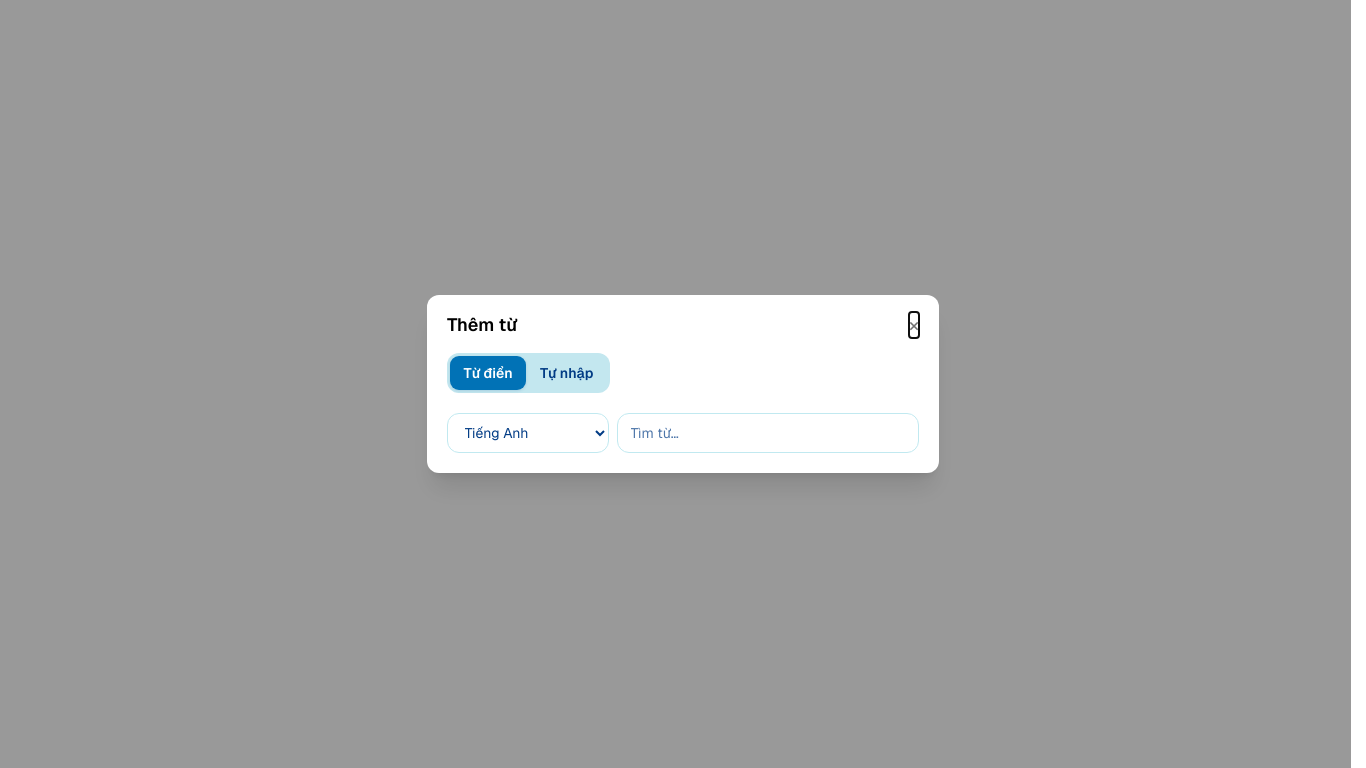
Test: AddWordDialog › reports an assistant failure instead of silently filling nothing
The width and height of the screenshot is (1366, 768).
Step 1. Click the tab "Tự nhập" → [567, 373], box [526,356,607,390]
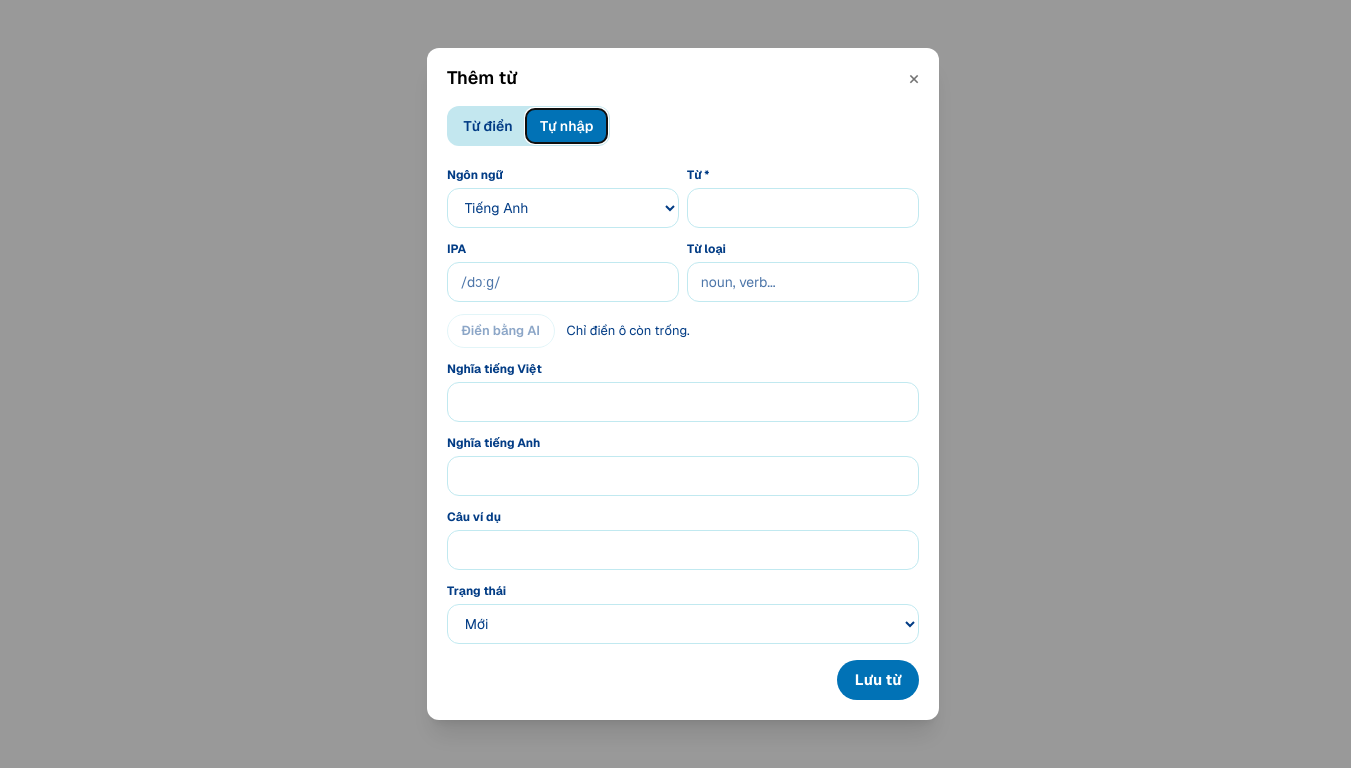
Step 2. Type "dog" into the field labelled "Từ *" → [803, 208], box [687,188,919,228]
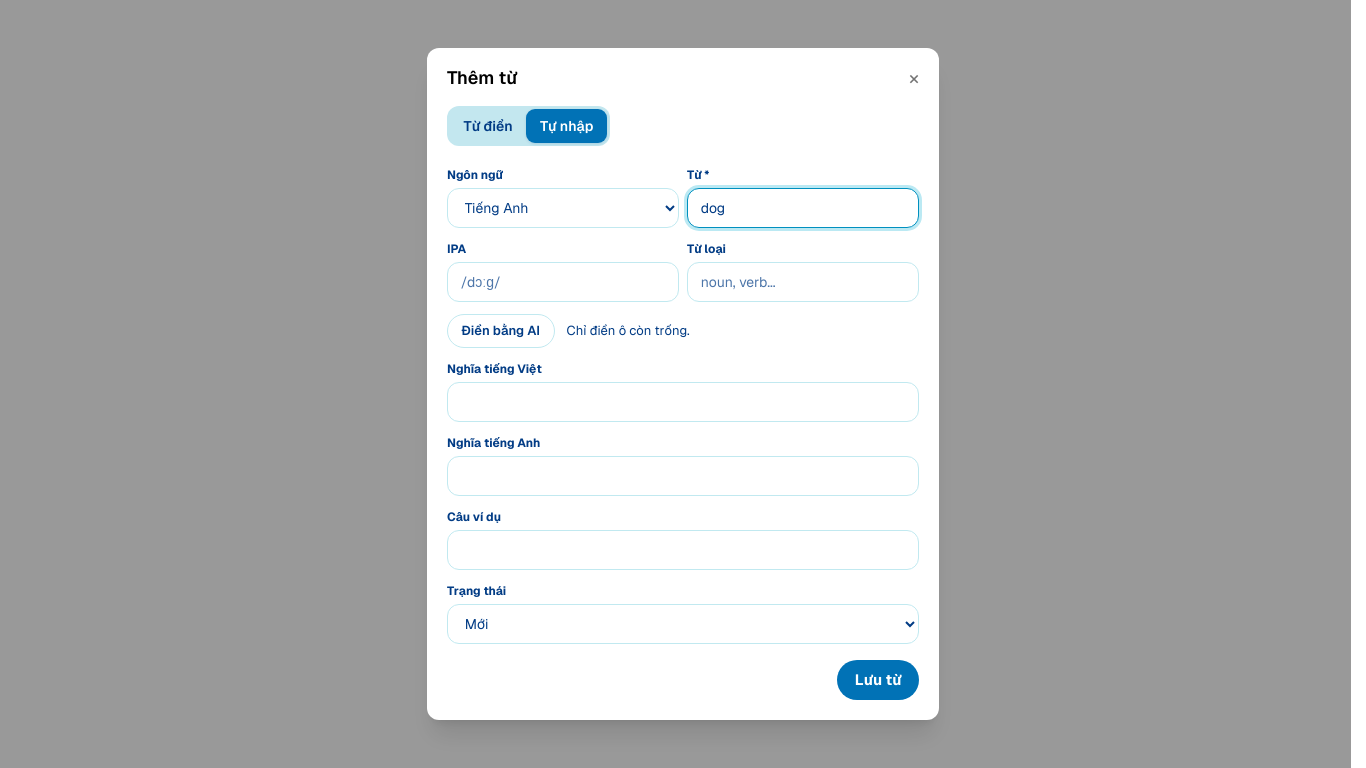
Step 3. Click the button "Điền bằng AI" → [501, 331], box [447,314,554,348]
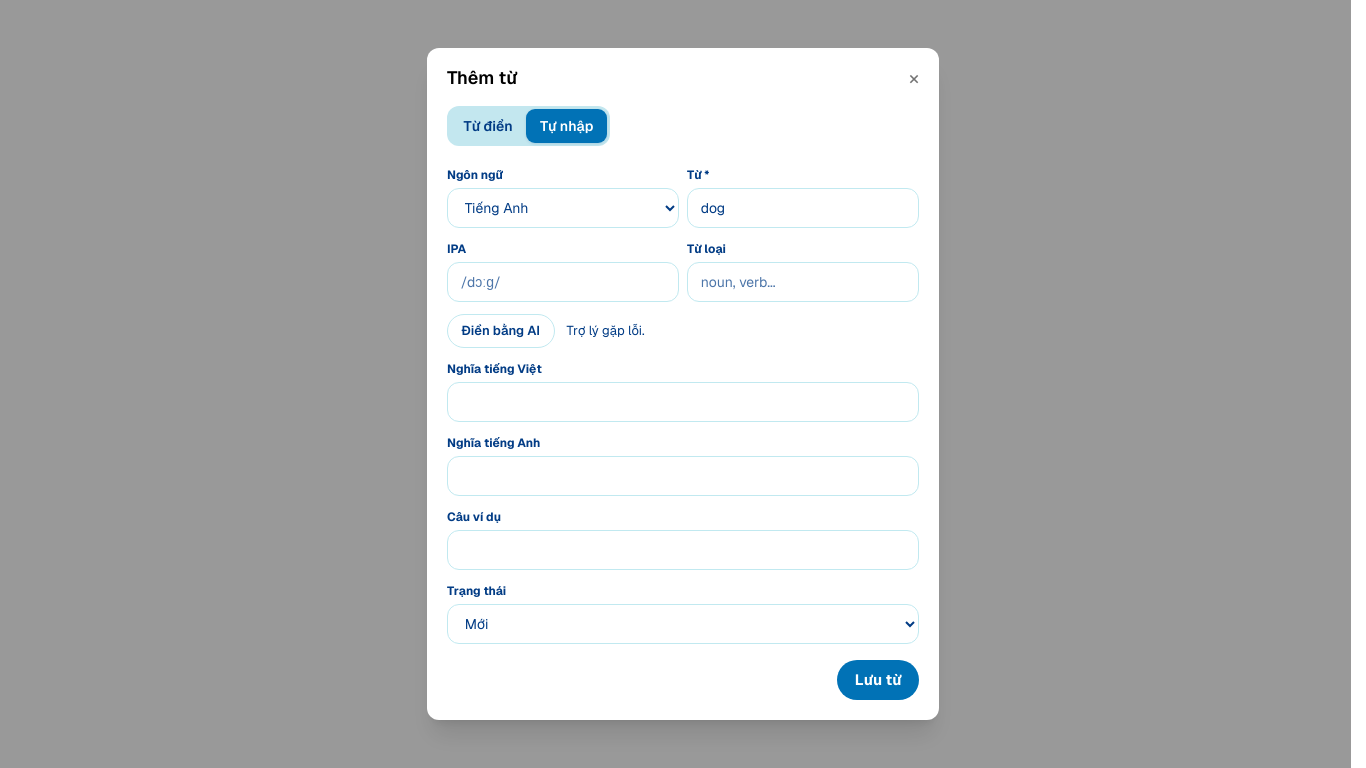
Now the text "Trợ lý gặp lỗi." is shown, box [566,321,645,341]
